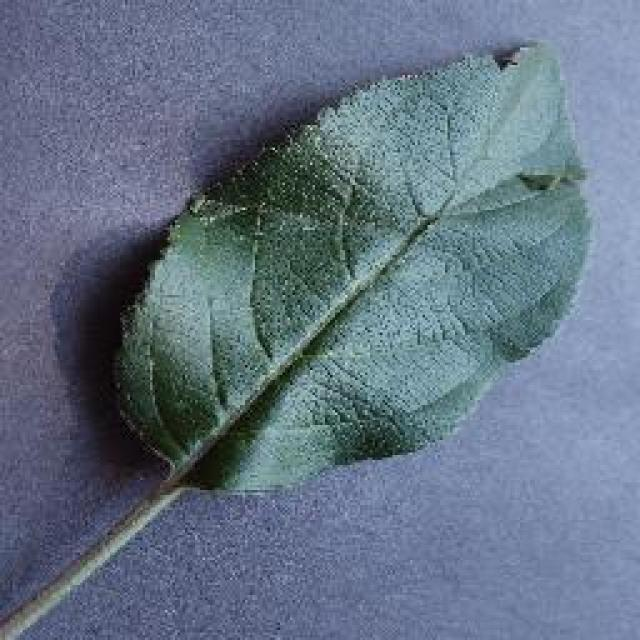apple healthy: (110, 38, 595, 498)
